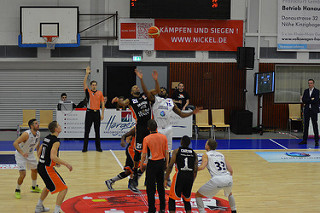basketball: (148, 26, 160, 39)
